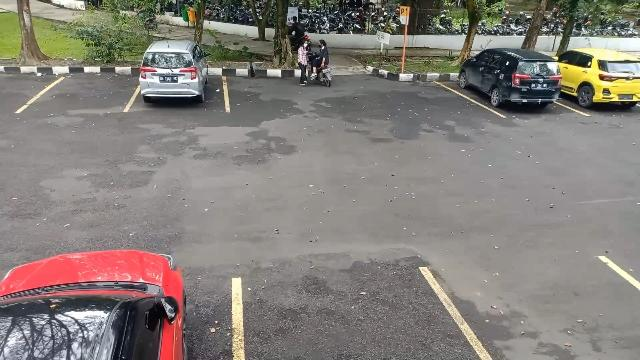empty: (234, 261, 452, 360), (452, 258, 632, 360), (32, 64, 132, 112)
occupied: (459, 58, 563, 116), (132, 52, 228, 108), (564, 52, 640, 118)
